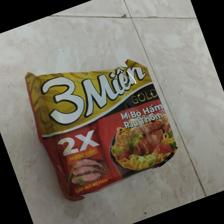3mien: (22, 59, 179, 202)
